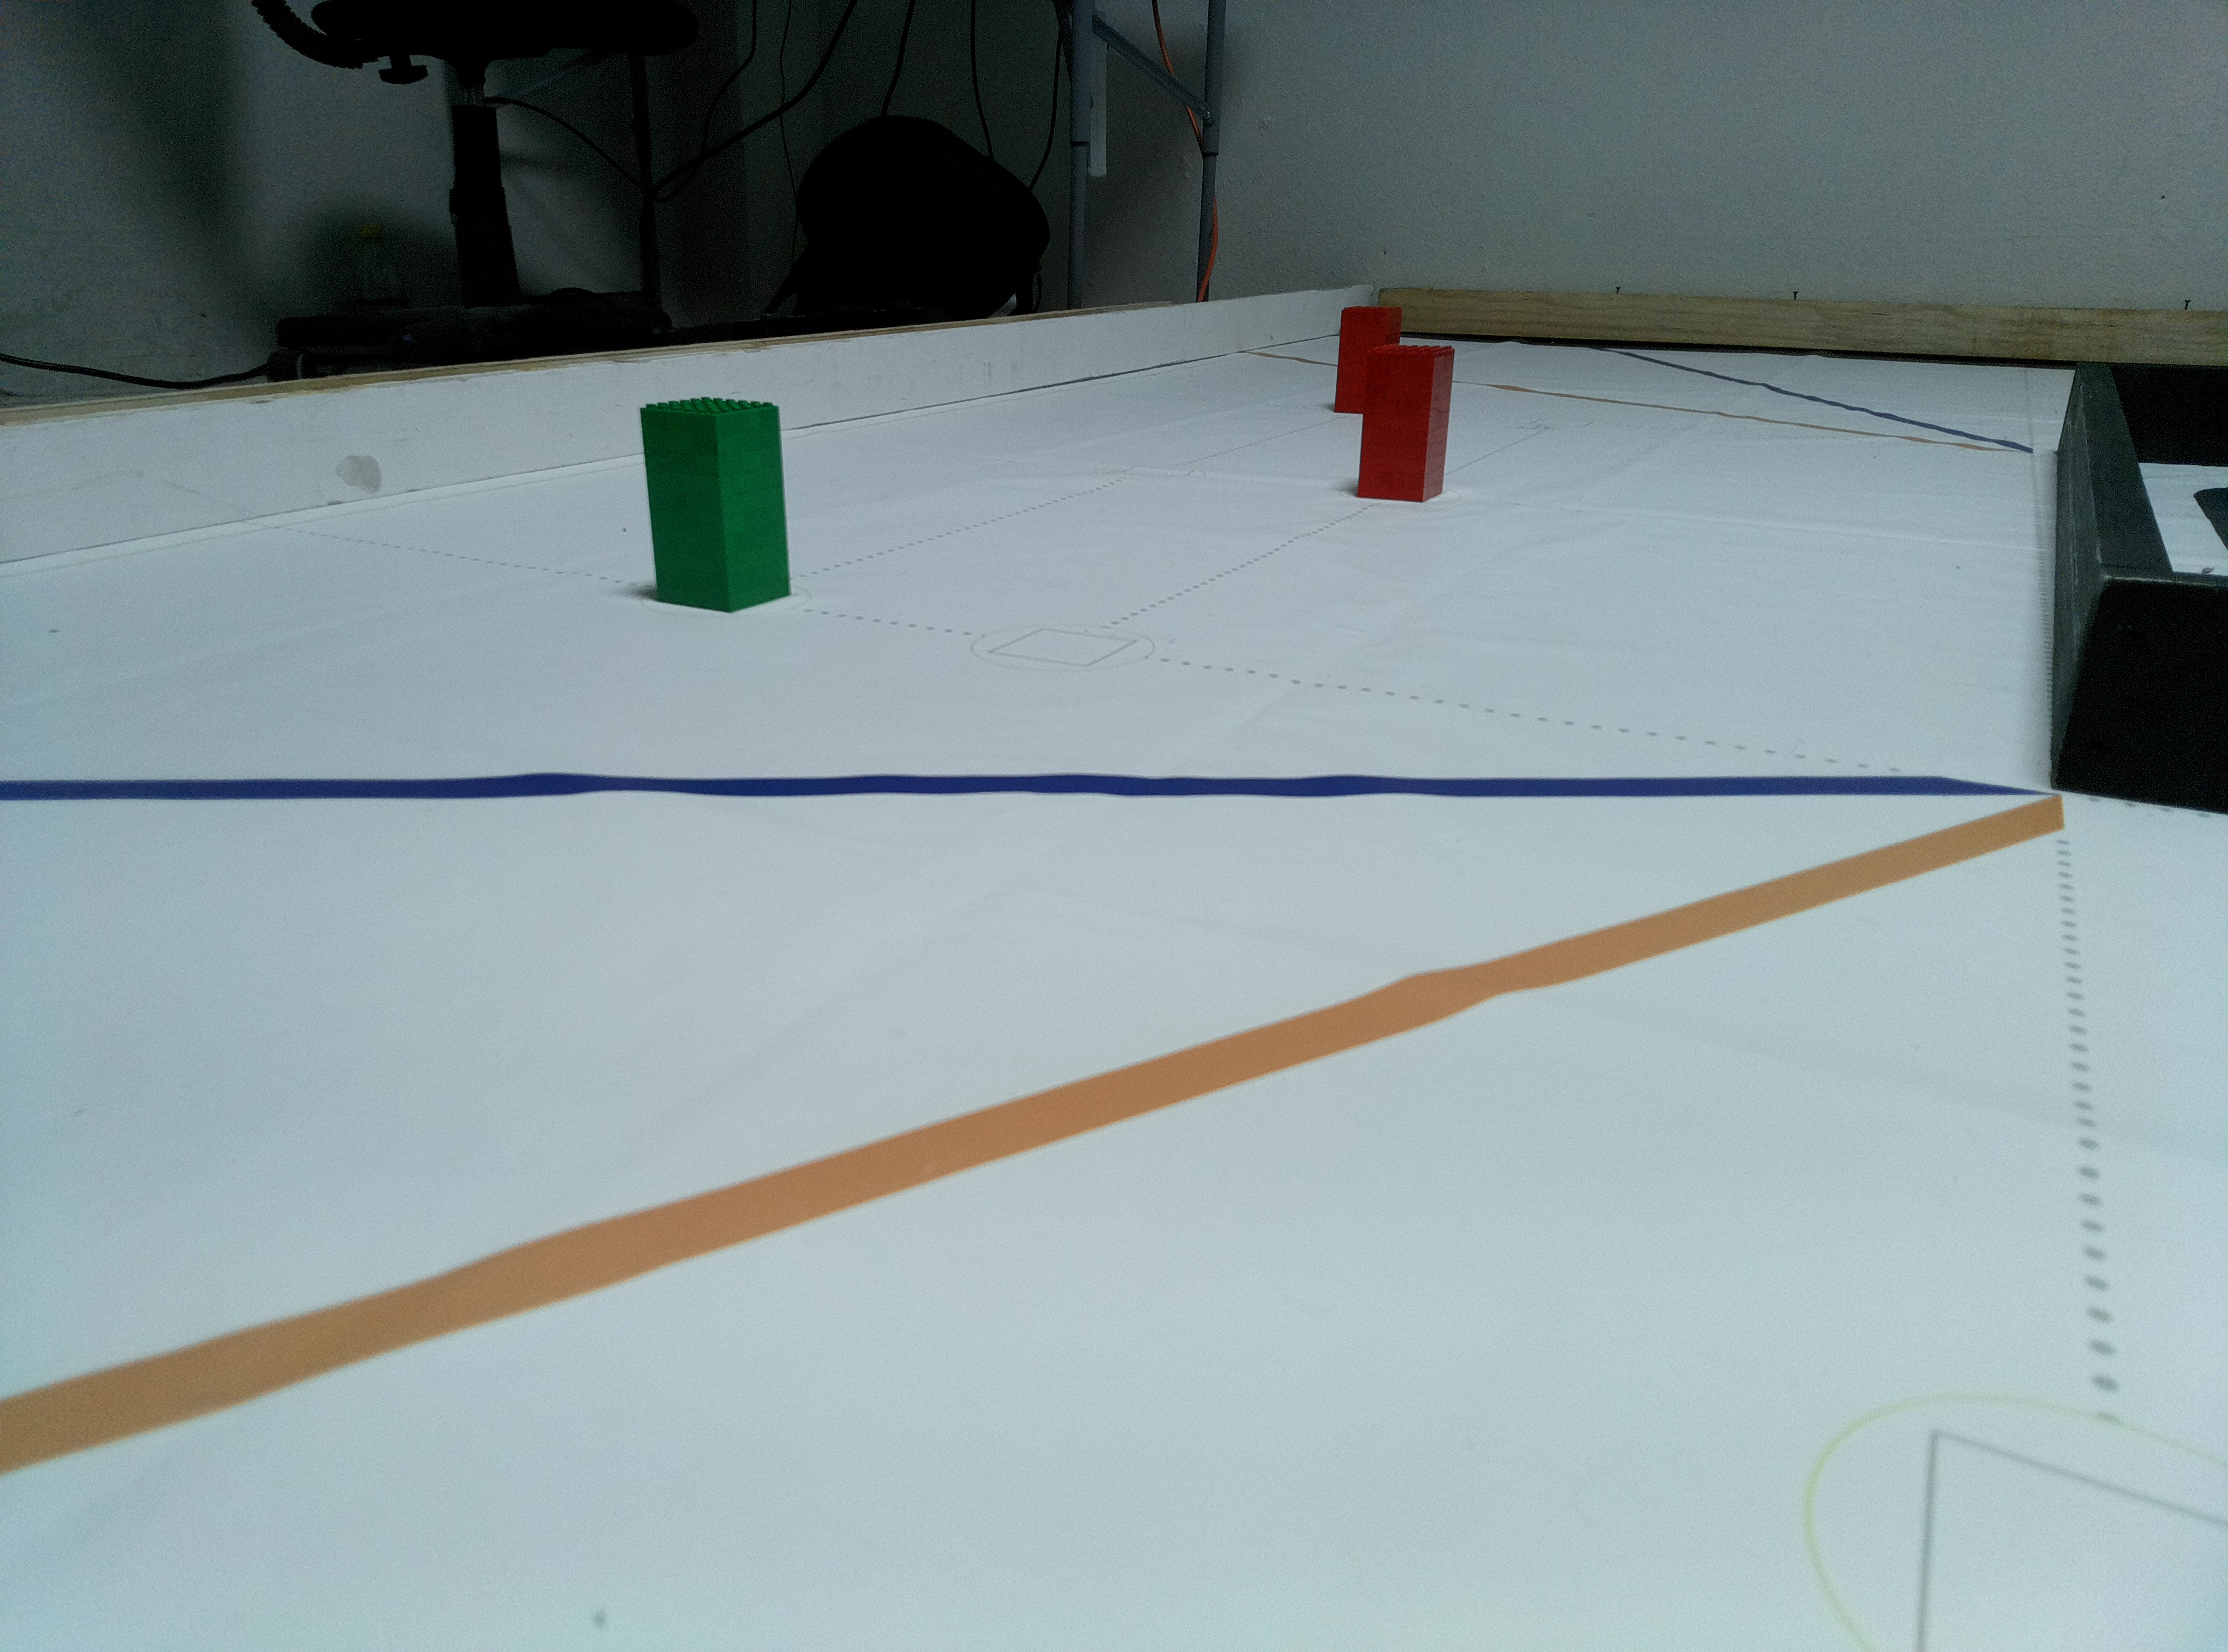greenbox: (637, 394, 796, 614)
redbox: (1352, 342, 1456, 505), (1331, 302, 1402, 415)
